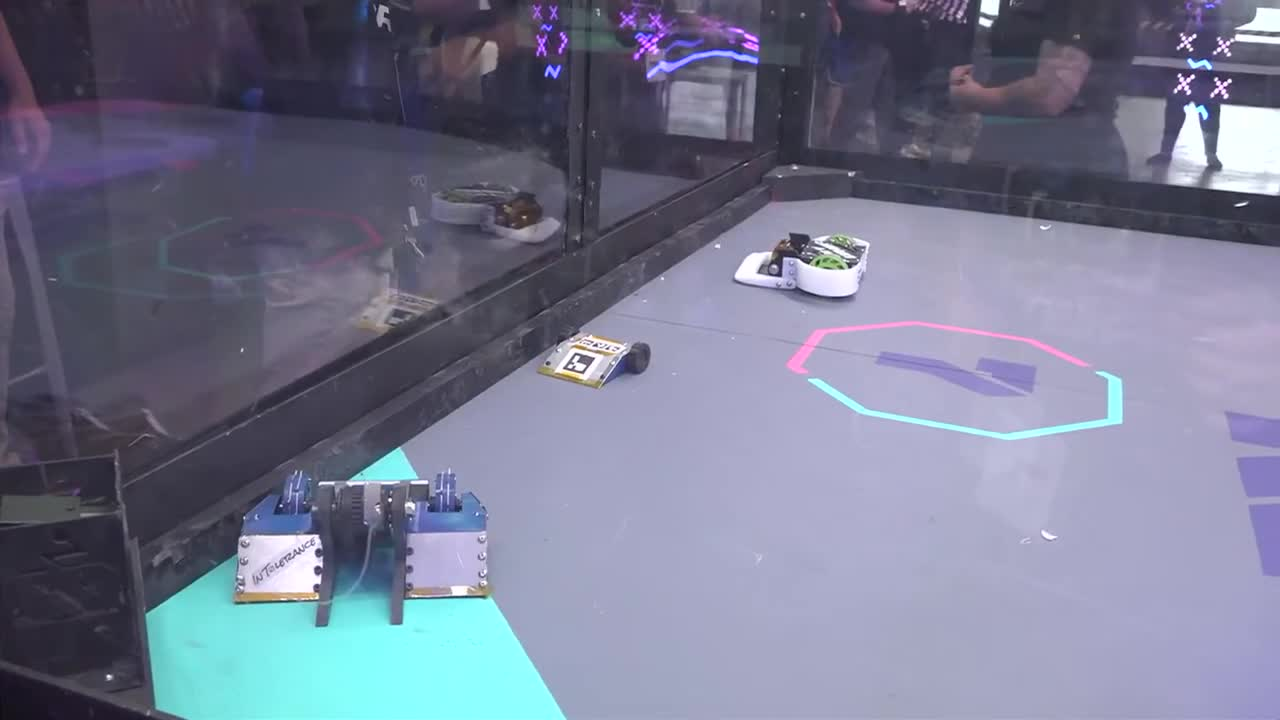combatbot: (235, 467, 493, 600), (736, 231, 872, 298)
minibot: (535, 331, 655, 390)
